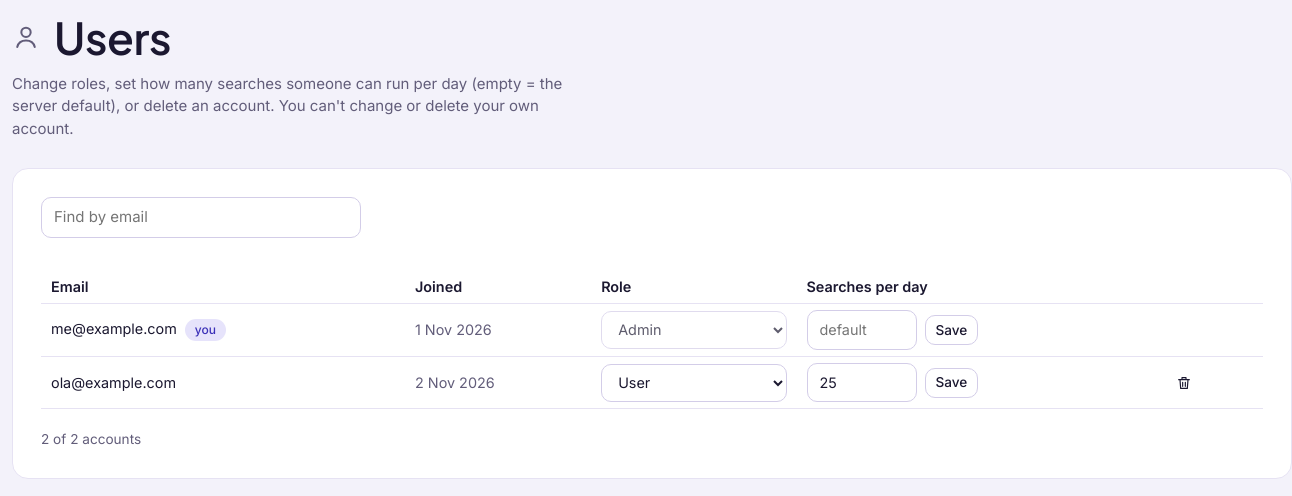
Scenario: AdminUsersPage › saves a new role for another user
Select "Admin" in the dropdown named "Role of ola@example.com" at (694, 383), box [601,364,786,402]
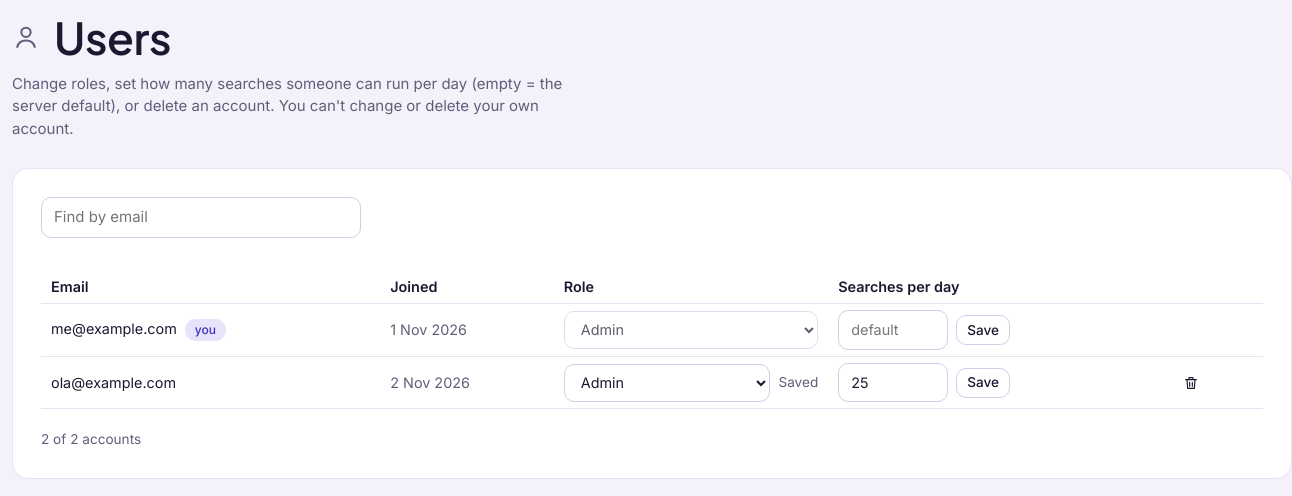
expect the text "Saved" is shown: met, box [778,372,818,393]
